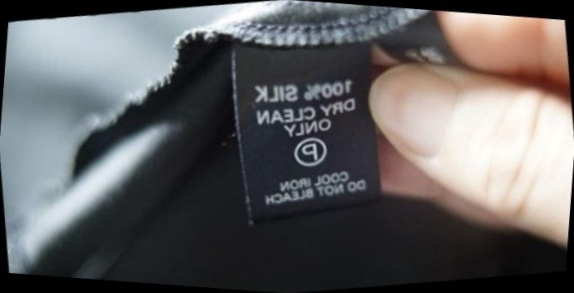dry_clean_any_solvent_except_trichloroethylene: (289, 132, 330, 171)
